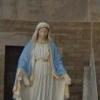Statue: (16, 15, 70, 100)
